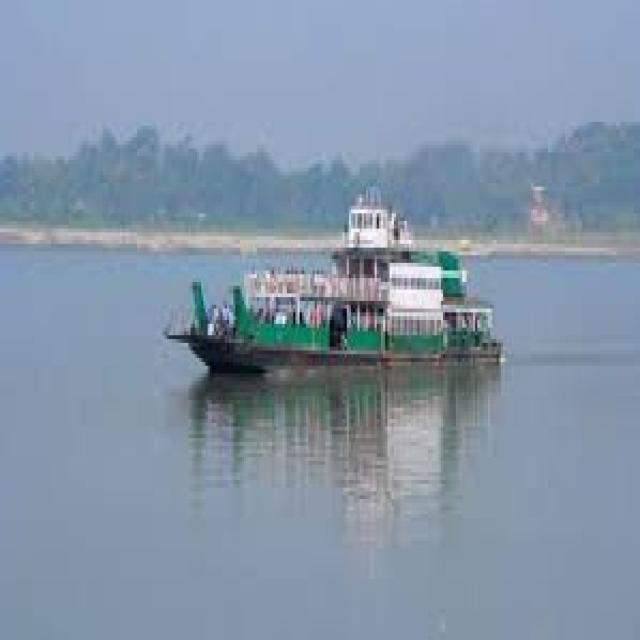fishing boat: (172, 162, 493, 372)
